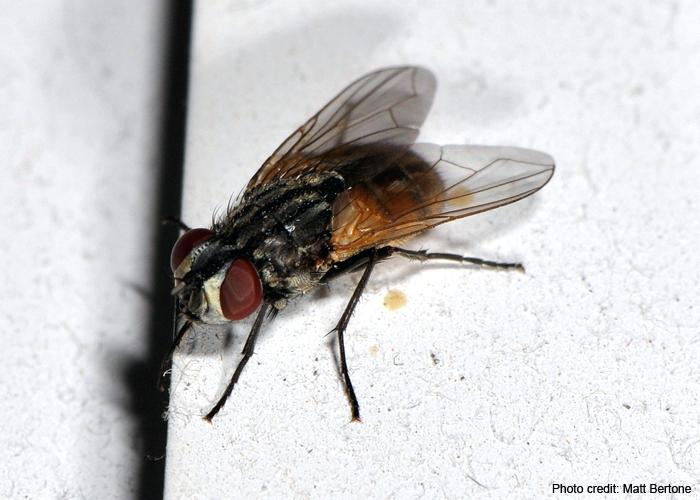fly: (125, 62, 554, 432)
